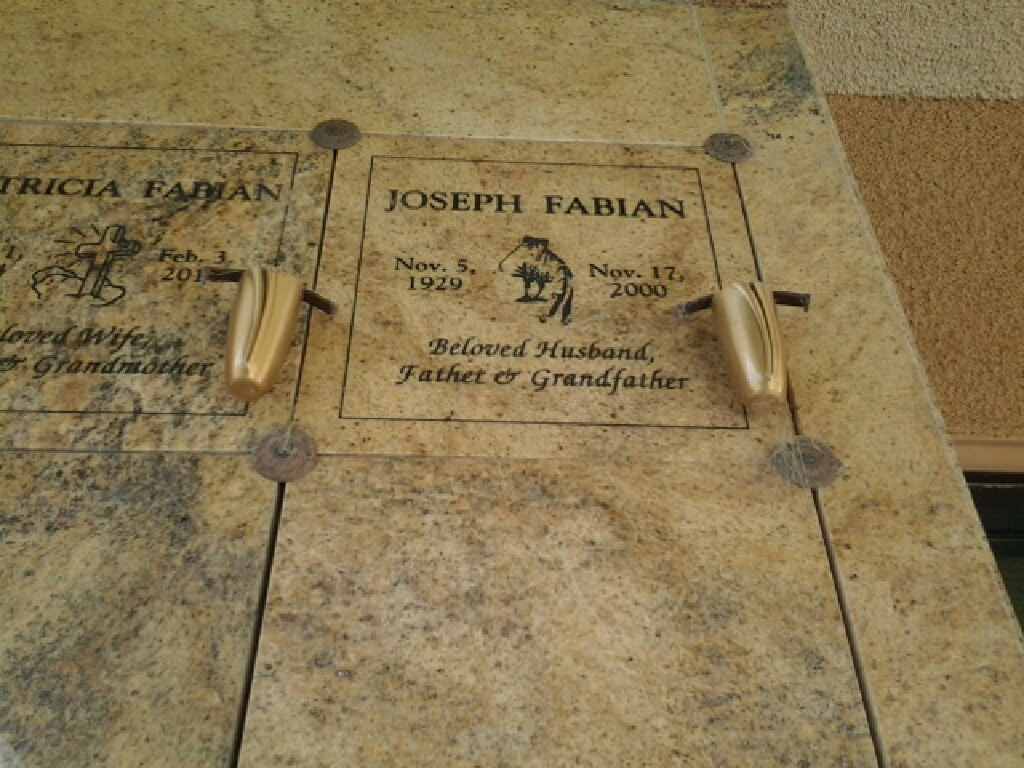plaque: (288, 116, 810, 460)
